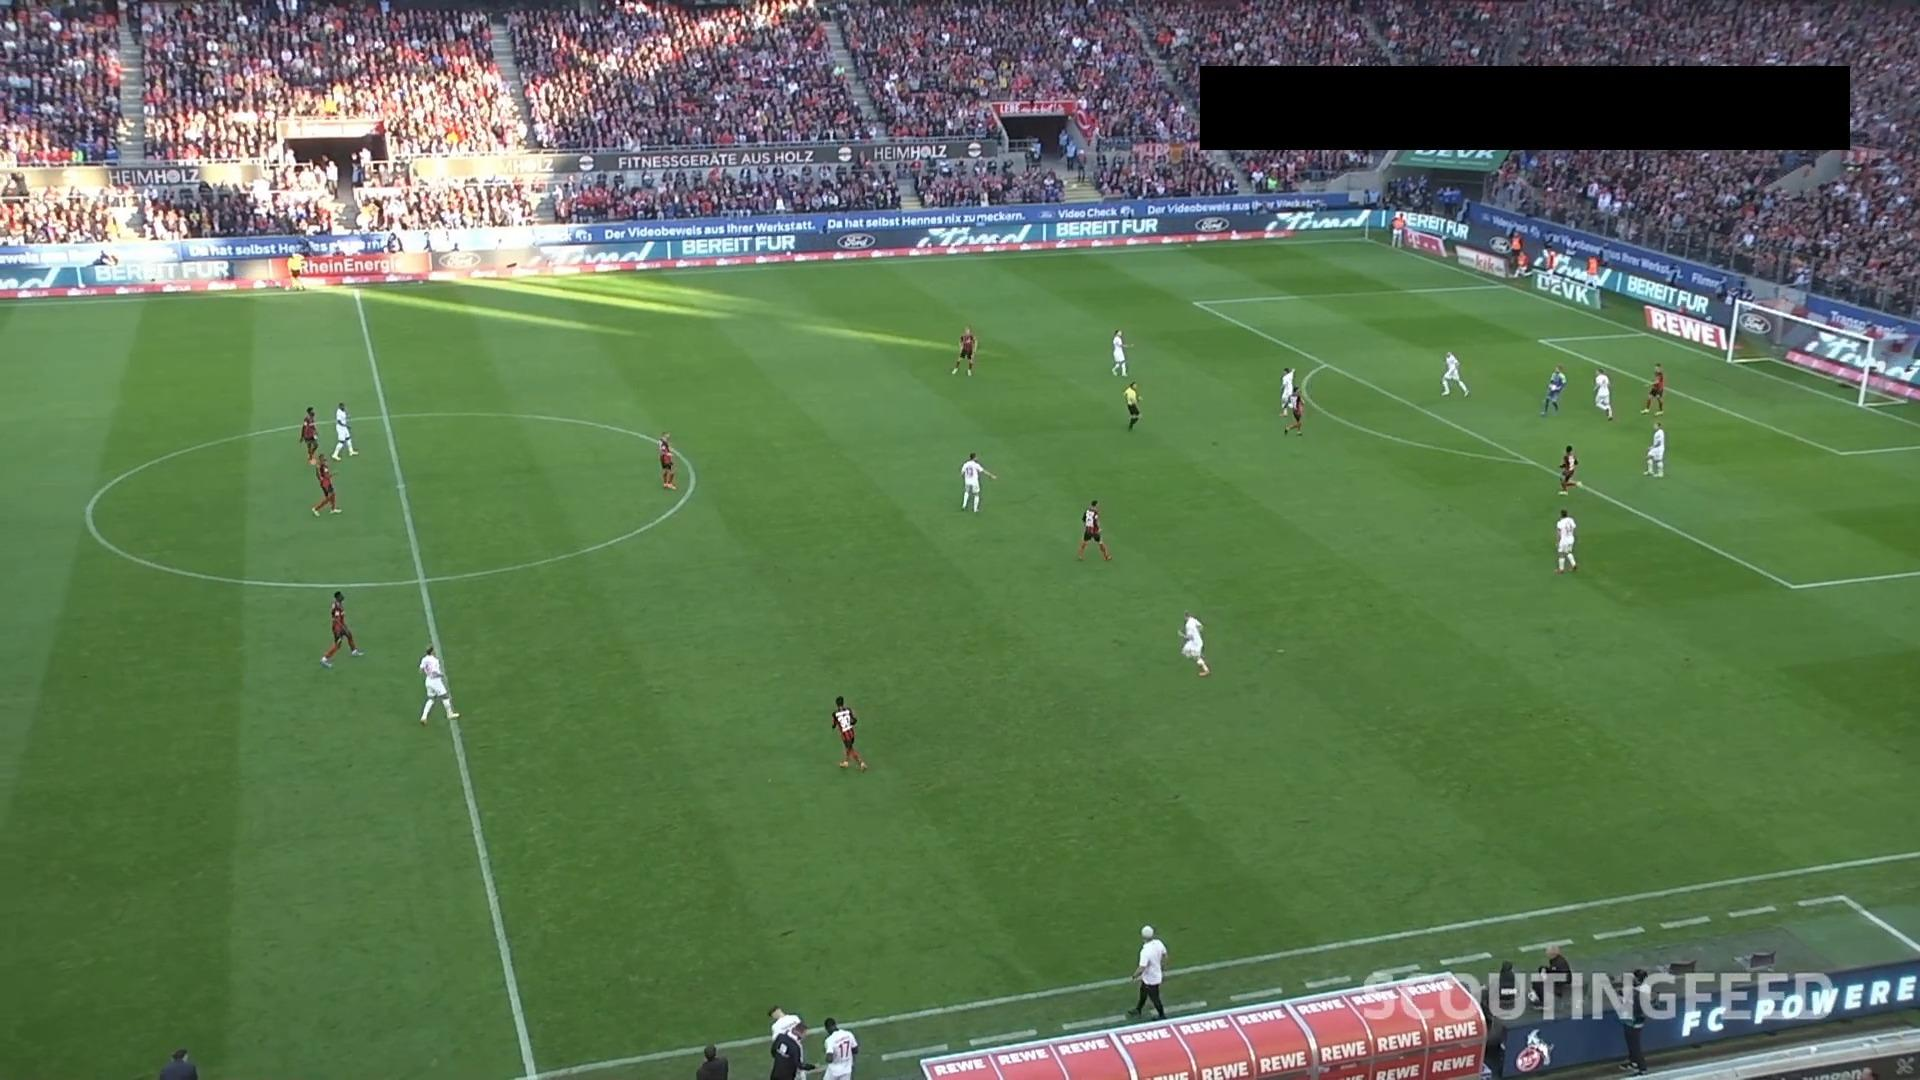ball: (1551, 384, 1557, 390)
